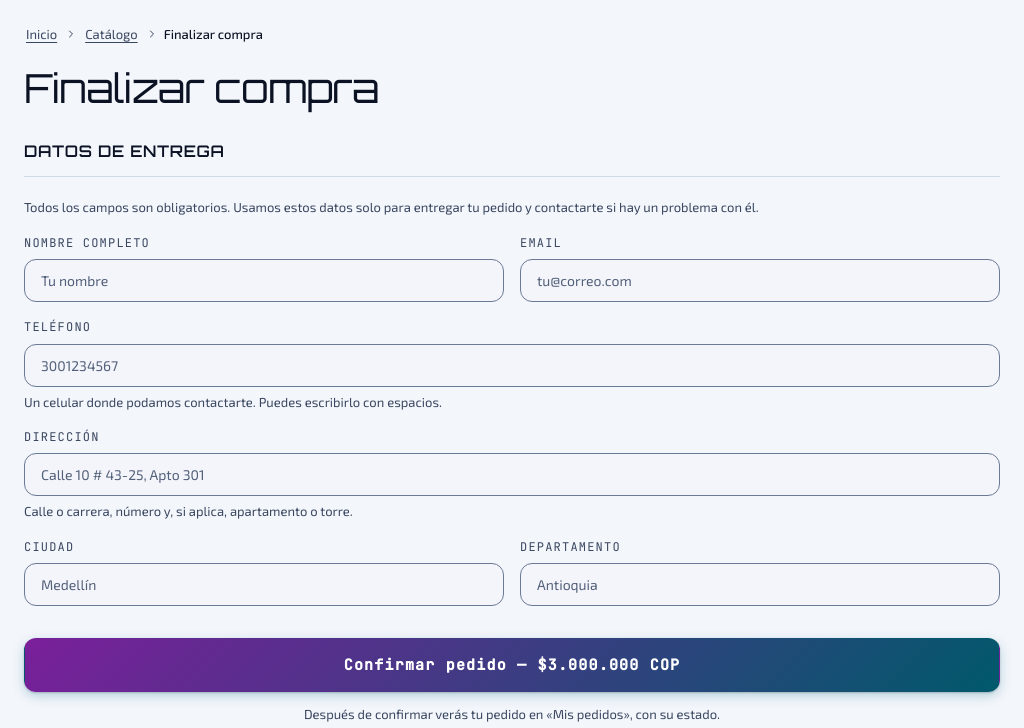
Test: Checkout — sin datos del usuario para precargar › nombre y email arrancan vacíos y se exigen antes de enviar
Click the button "Confirmar pedido — $3.000.000 COP" at point(512, 665), box x1=24 y1=638 x2=1000 y2=692
(page scrolled)
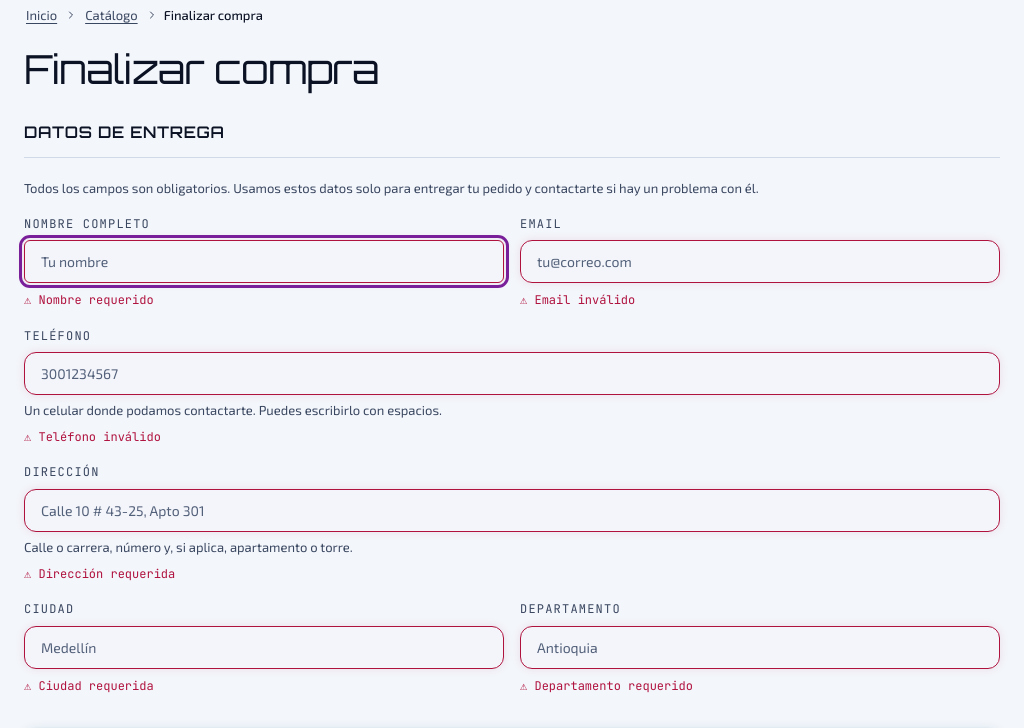
Expected: the field labelled "Email" is empty, x1=520 y1=240 x2=1000 y2=283
Now the text "Nombre requerido" is shown, box x1=38 y1=292 x2=154 y2=308
Now the text "Email inválido" is shown, box x1=534 y1=292 x2=635 y2=308
